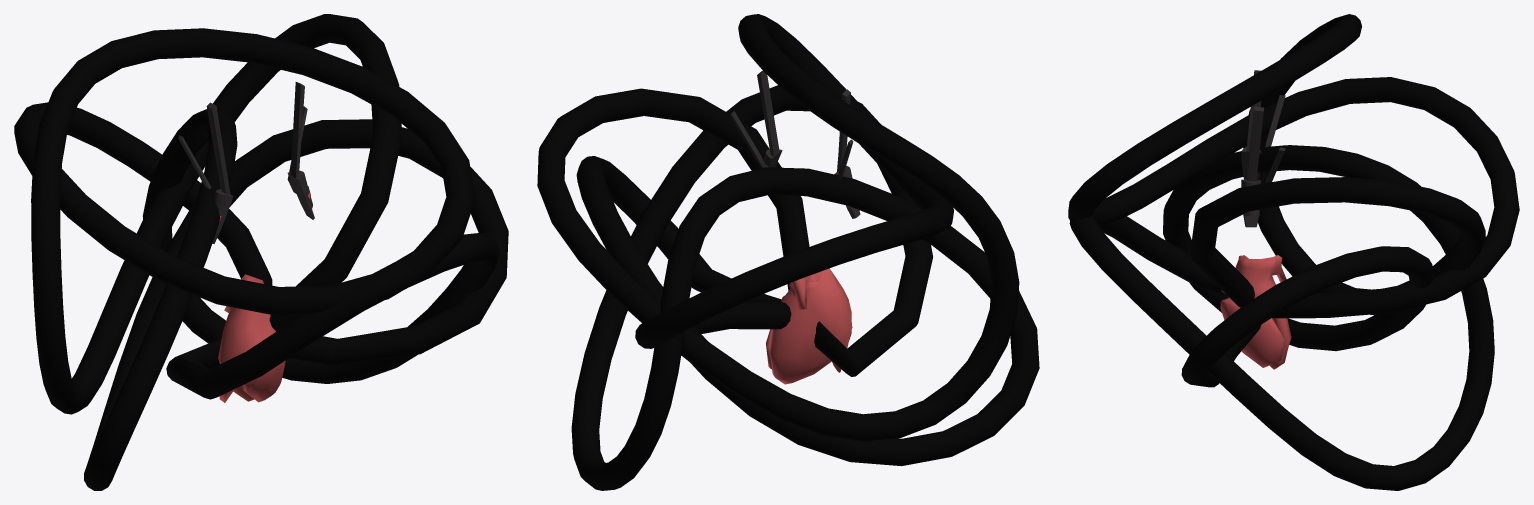
File: ScrapCrown.fbx
The picture shows the model from 3 angles, left to right: view 1: azimuth 30°, elevation 25°; view 2: azimuth 150°, elevation 25°; view 3: azimuth 270°, elevation 25°; orthographic projection. The views are drawn at different scales.
Visible parts, largest first — view 1: matHeart, mdlEliteScrapCrownR, mdlEliteScrapCrownL; view 2: matHeart, mdlEliteScrapCrownL, mdlEliteScrapCrownR; view 3: matHeart, mdlEliteScrapCrownL, mdlEliteScrapCrownR.
Part boxes in pixels (bbox=[...]): matHeart: bbox=[14, 14, 508, 490]; mdlEliteScrapCrownR: bbox=[178, 102, 233, 243]; mdlEliteScrapCrownL: bbox=[287, 82, 314, 219]; matHeart: bbox=[537, 14, 1039, 490]; mdlEliteScrapCrownL: bbox=[729, 70, 782, 168]; mdlEliteScrapCrownR: bbox=[834, 89, 860, 218]; matHeart: bbox=[1068, 14, 1519, 490]; mdlEliteScrapCrownL: bbox=[1241, 106, 1285, 227]; mdlEliteScrapCrownR: bbox=[1241, 70, 1285, 180].
Size of the model in its own units: 1.43 by 1.3 by 1.41.
